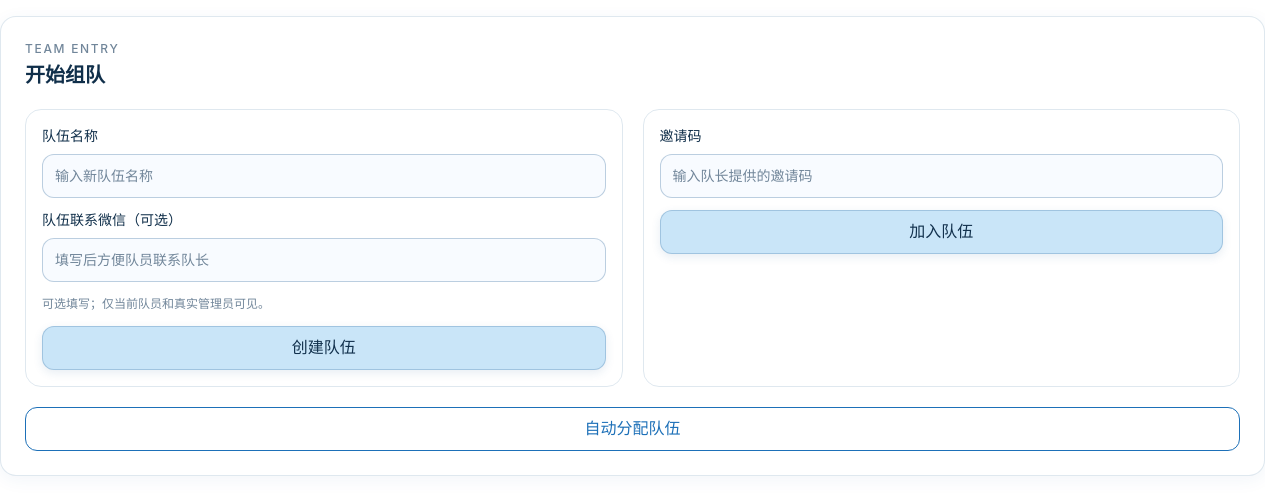
Test: independent team UI › creates a team directly and preserves the one-time invite across refresh
In the field labelled "队伍名称": (324, 176) left=42, top=154, right=606, bottom=198, type " 第一队 "
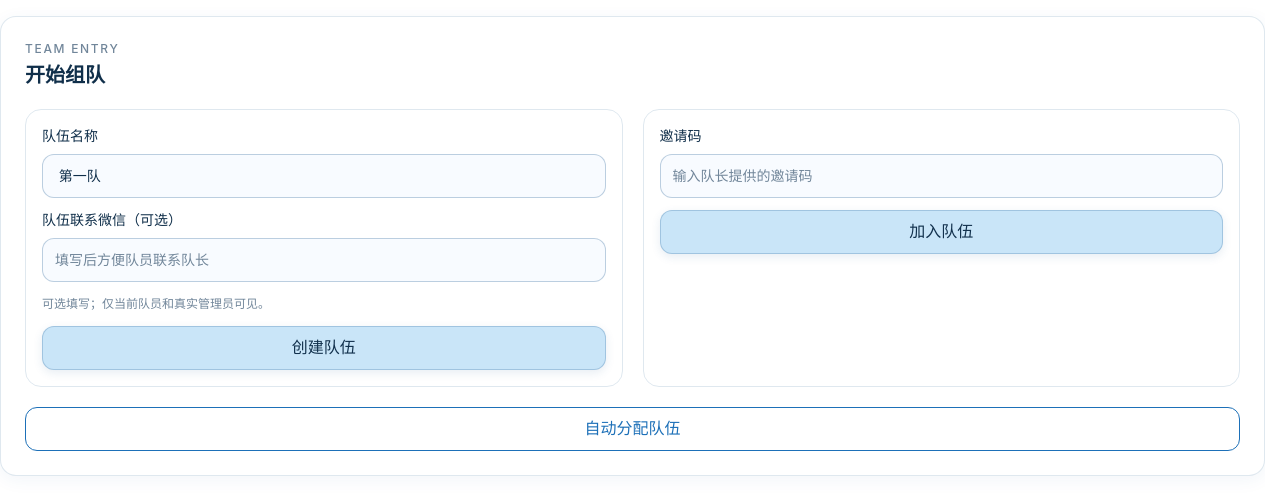
In the field labelled "队伍联系微信（可选）": (324, 260) left=42, top=238, right=606, bottom=282, type " pnx_team "
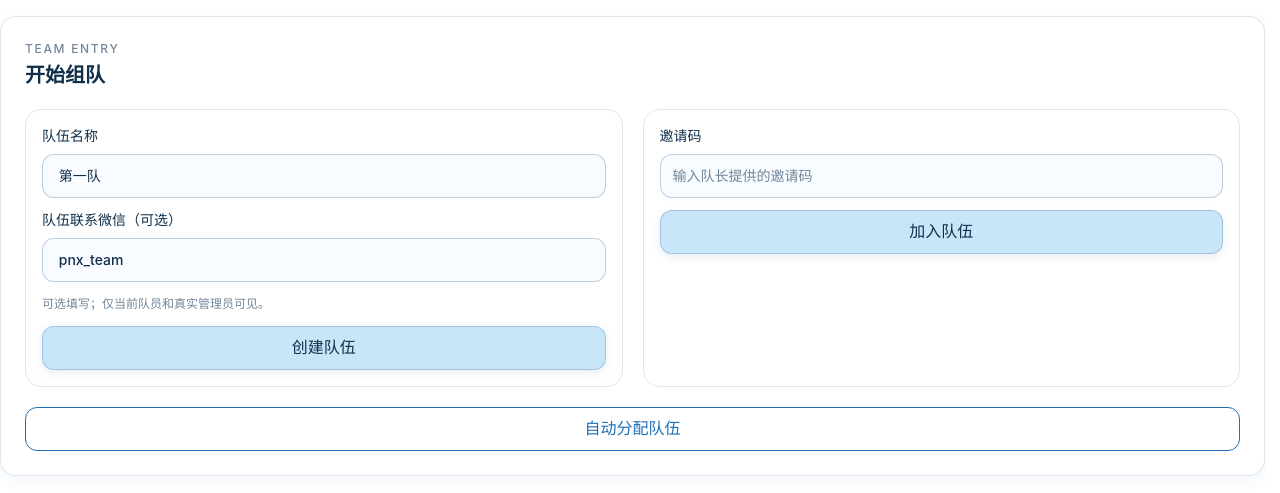
Click the button "创建队伍": click(324, 348) left=42, top=326, right=606, bottom=370
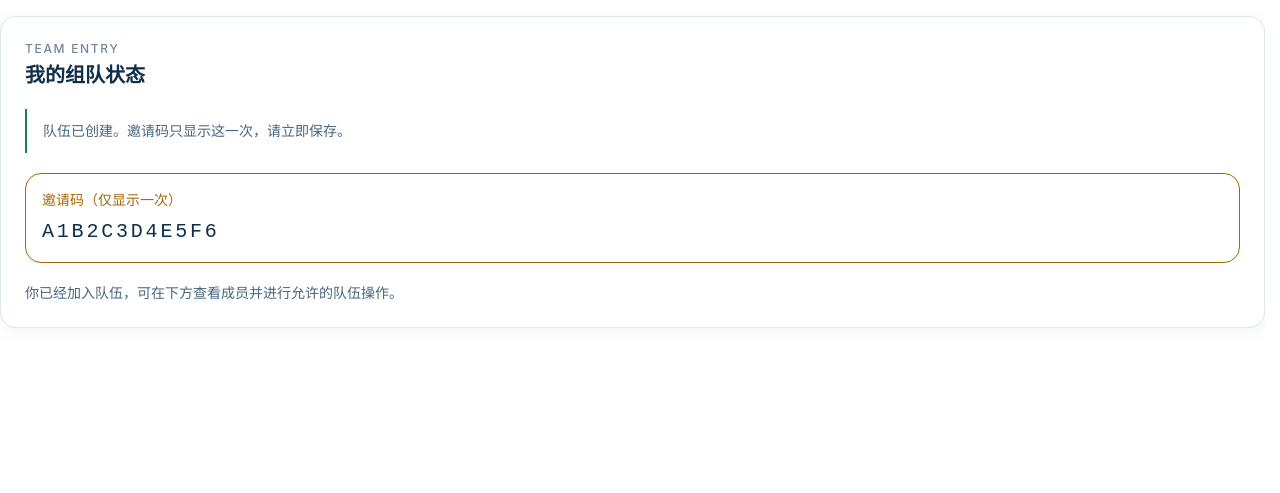
Expected: the text "A1B2C3D4E5F6" is shown, left=42, top=220, right=220, bottom=243
Expected: the text "队伍已创建。邀请码只显示这一次，请立即保存。" is shown, left=25, top=109, right=1240, bottom=153
